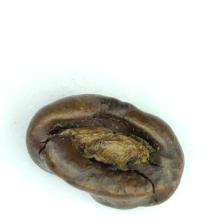NG: (42, 104, 162, 192)
